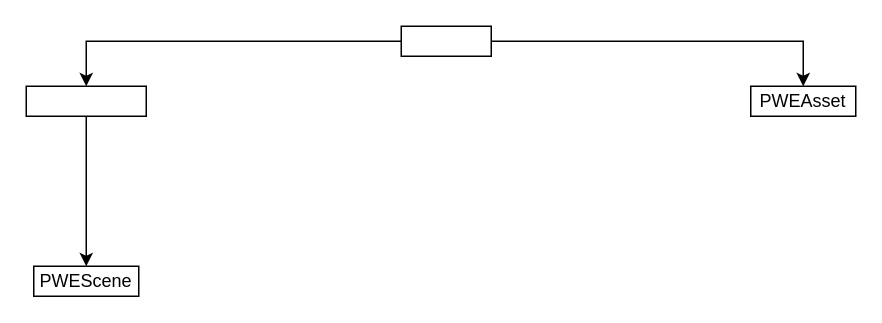
Image size: 882x323. Some labels were removed from this diagram. The shapes that lost their labels are listed below. From the top down, each one's centre as x and y in pixels, then its label:
At pixel 445 40: "PWEngine".
At pixel 85 100: "PWEWindow".
